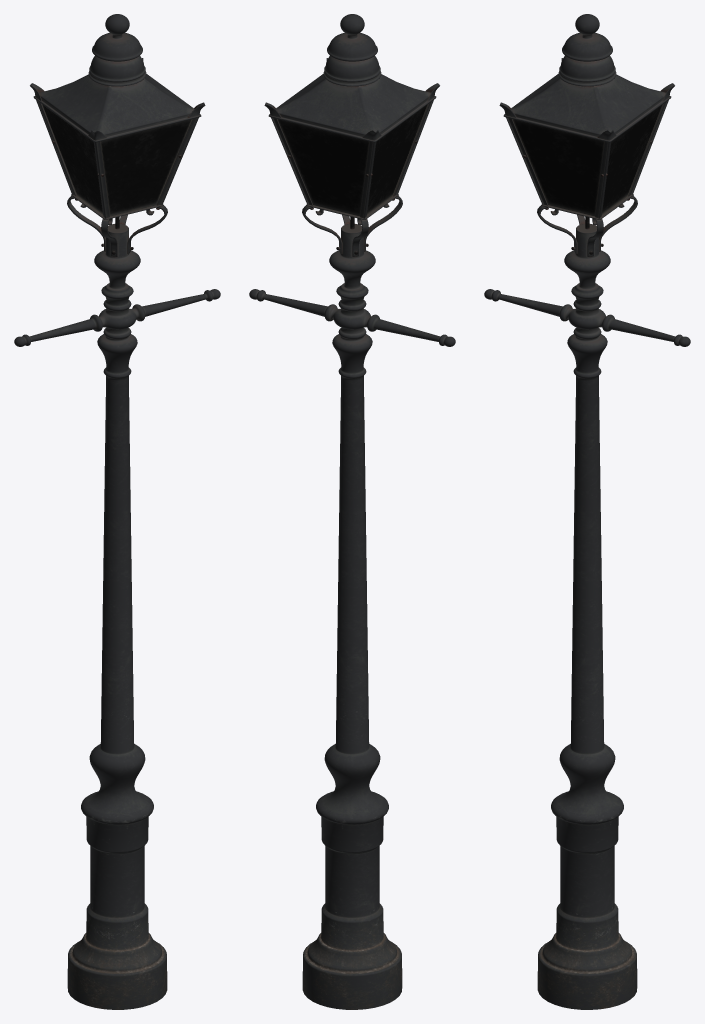
The model's file is StreetLamp01.fbx.
3 views of the same model, side by side, from view 1: azimuth 30°, elevation 25°; view 2: azimuth 150°, elevation 25°; view 3: azimuth 330°, elevation 25° (orthographic).
Visible parts, largest first — view 1: StreetLamp01; view 2: StreetLamp01; view 3: StreetLamp01.
Part boxes in pixels (box(x1,y1,x2,y2)): StreetLamp01: box(14, 14, 220, 1009); StreetLamp01: box(249, 14, 455, 1009); StreetLamp01: box(484, 14, 690, 1009).
Bounding box in the file's own units: 0.7043 × 3.2 × 0.3865.
Materials: 3 (3 with a texture image).
